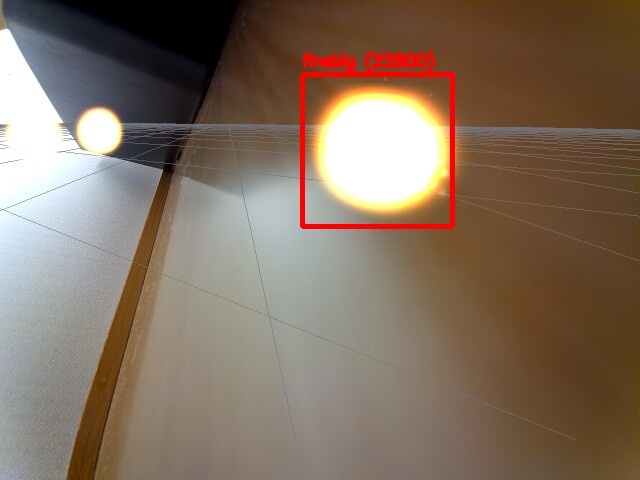firebig: (302, 74, 452, 226)
